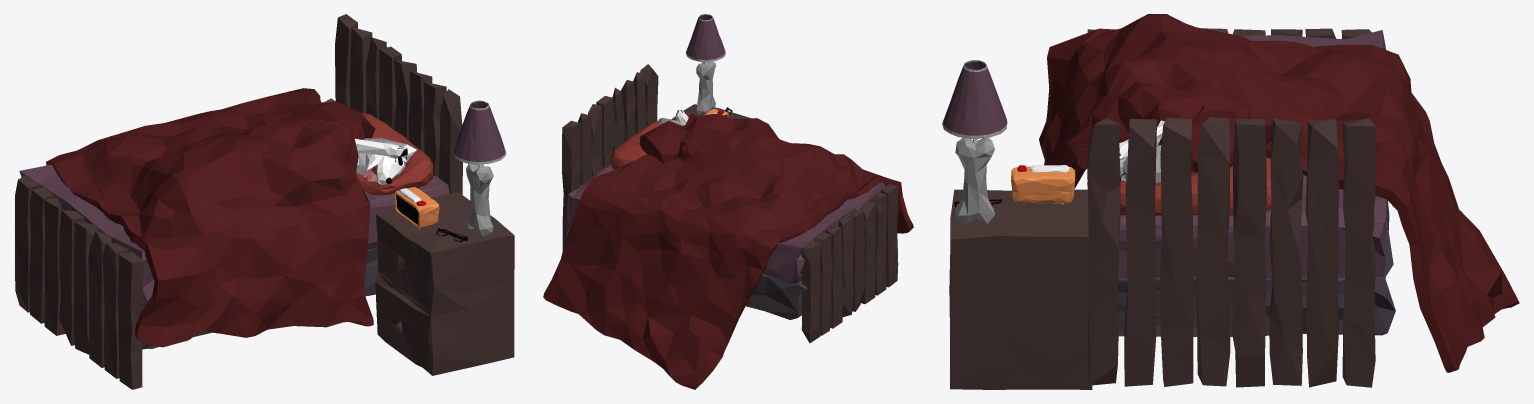
The model's file is midlevel_dog_in_bed_fbx.fbx.
3 views of the same model, side by side, from view 1: azimuth 30°, elevation 25°; view 2: azimuth 150°, elevation 25°; view 3: azimuth 270°, elevation 25° (orthographic). The views are drawn at different scales.
Parts seen in each view (by area): view 1: sleepingdog, nightstand, tailboard, headboard, bed, lamp, pillow, bone, blanketpod, clock, paw, bottom_mattress; view 2: sleepingdog, tailboard, headboard, bed, bottom_mattress, lamp, blanketpod, pillow, bone, paw; view 3: headboard, sleepingdog, nightstand, bed, lamp, bottom_mattress, bone, clock, pillow, blanketpod, tailboard, paw.
Boxes of the visible parts, x1,y1,x2,y2 form: sleepingdog: (46,88,416,347); nightstand: (375,192,514,375); tailboard: (15,176,143,389); headboard: (335,14,462,194); bed: (19,98,449,302); lamp: (453,100,506,168); pillow: (356,113,433,195); bone: (466,164,493,236); blanketpod: (293,101,375,153); clock: (394,187,439,228); paw: (282,116,407,158); bottom_mattress: (142,247,377,349); sleepingdog: (543,113,913,389); tailboard: (801,184,898,343); headboard: (562,64,658,250); bed: (564,164,885,283); bottom_mattress: (563,227,807,319); lamp: (686,14,725,64); blanketpod: (639,121,685,163); pillow: (610,120,659,169); bone: (696,61,715,114); paw: (675,110,699,159); headboard: (1087,117,1375,387); sleepingdog: (1039,14,1519,372); nightstand: (949,189,1092,389); bed: (1118,30,1386,282); lamp: (942,60,1007,144); bottom_mattress: (1118,200,1395,336); bone: (955,138,995,224); clock: (1011,165,1075,204); pillow: (1120,157,1271,215); blanketpod: (1158,109,1272,172); tailboard: (1087,28,1371,185); paw: (1119,94,1249,160).
Bounding box in the file's own units: 2.79 × 2.27 × 3.34.
Materials: 3 (3 with a texture image).
